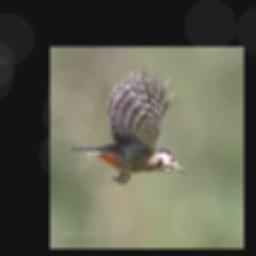Woodpecker: (72, 70, 189, 183)
